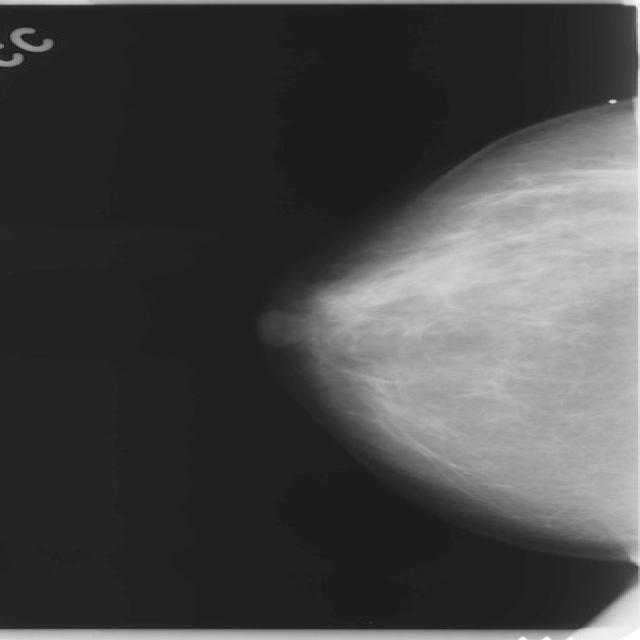tumour: (504, 165, 638, 195)
